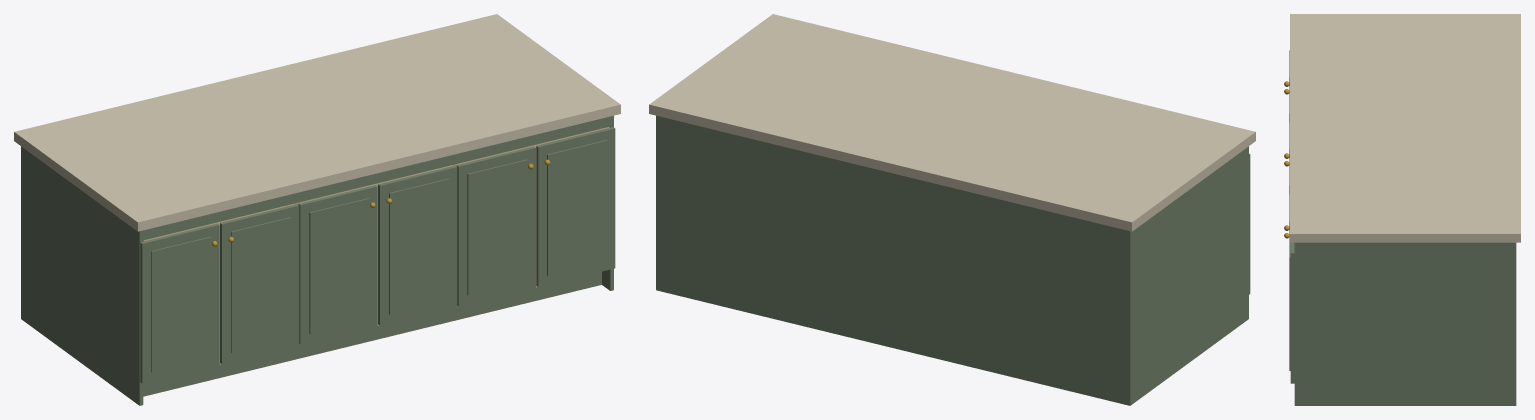
File: island.glb
The picture shows the model from 3 angles, left to right: view 1: azimuth 30°, elevation 25°; view 2: azimuth 150°, elevation 25°; view 3: azimuth 270°, elevation 25°; orthographic projection. The views are drawn at different scales.
Parts seen in each view (by area): view 1: island, cabinet-door-island-1, cabinet-door-island-4, cabinet-door-island-6, cabinet-door-island-2, cabinet-door-island-5, cabinet-door-island-3; view 2: island; view 3: island, cabinet-door-island-6.
Part boxes in pixels (box(x1,y1,x2,y2)): island: box(14, 14, 620, 405); cabinet-door-island-1: box(140, 223, 219, 383); cabinet-door-island-4: box(378, 165, 457, 325); cabinet-door-island-6: box(536, 127, 615, 286); cabinet-door-island-2: box(220, 204, 299, 364); cabinet-door-island-5: box(456, 146, 535, 306); cabinet-door-island-3: box(298, 185, 377, 344); island: box(649, 14, 1255, 405); island: box(1290, 14, 1520, 405); cabinet-door-island-6: box(1284, 230, 1294, 383).
Bounding box in the file's own units: 8.13 × 3 × 3.7.
